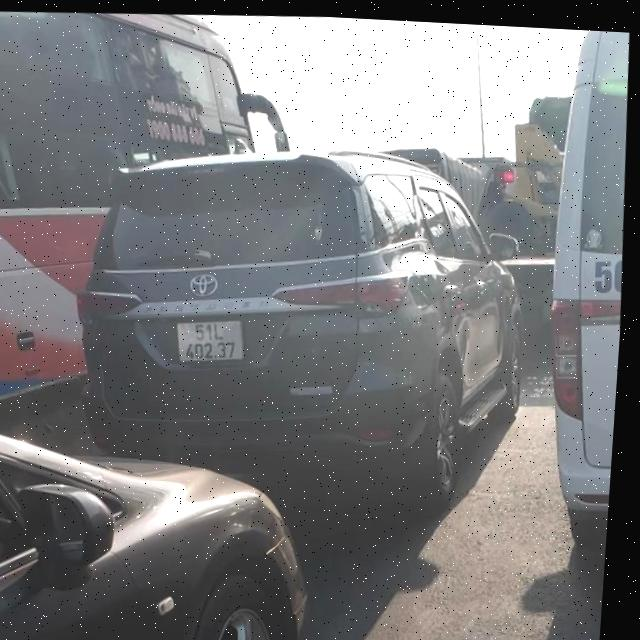car: (55, 122, 559, 543)
plate: (165, 308, 258, 374)
